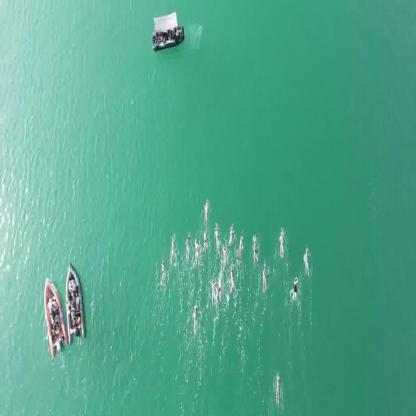Boat: (42, 279, 64, 354), (63, 266, 85, 341)
